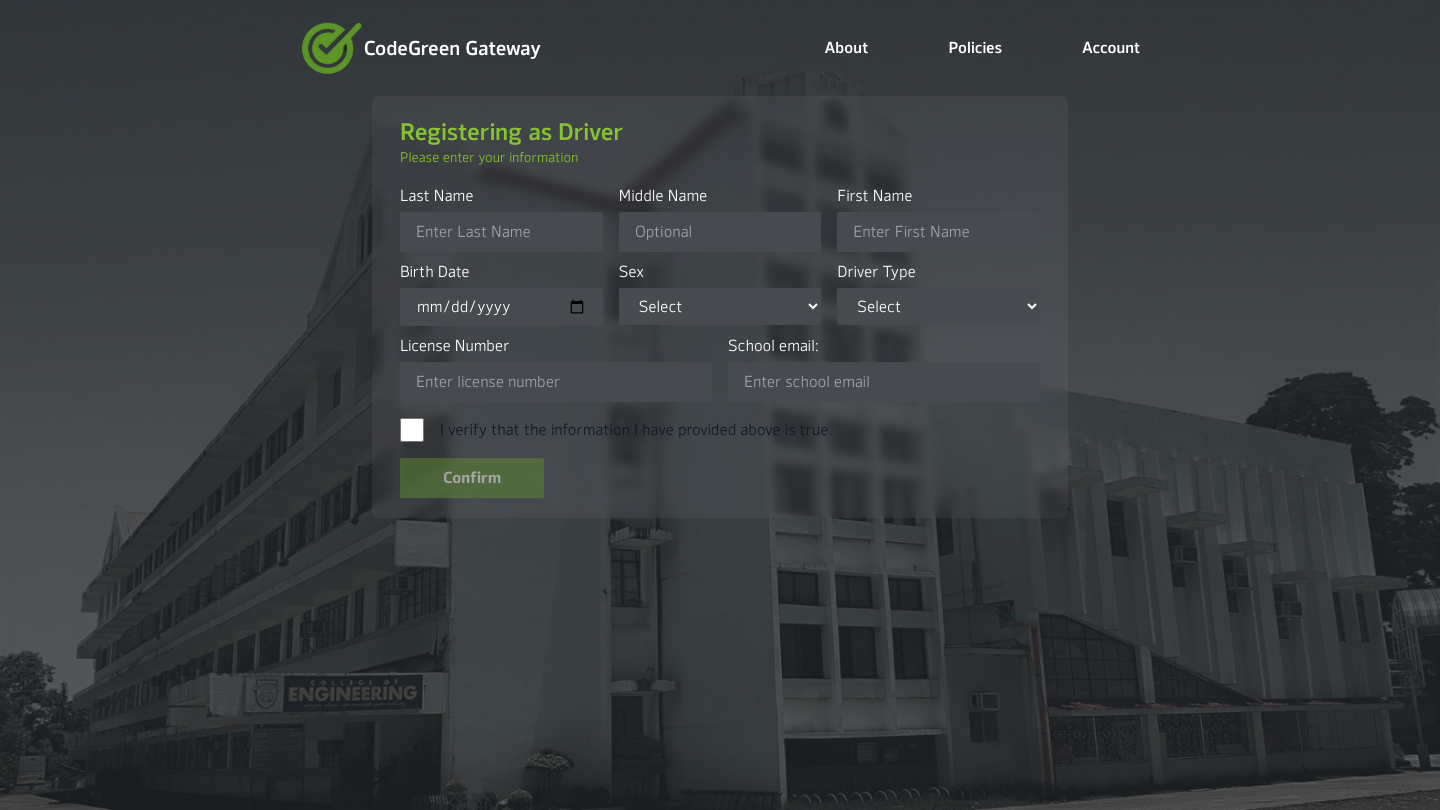
User should be able to register › should disable confirm button if checkbox is not checked
Expected: the button "Confirm" is disabled, [400,458,544,498]
Click the checkbox titled "tickbox". click: (412, 430)
box: [400,418,424,442]
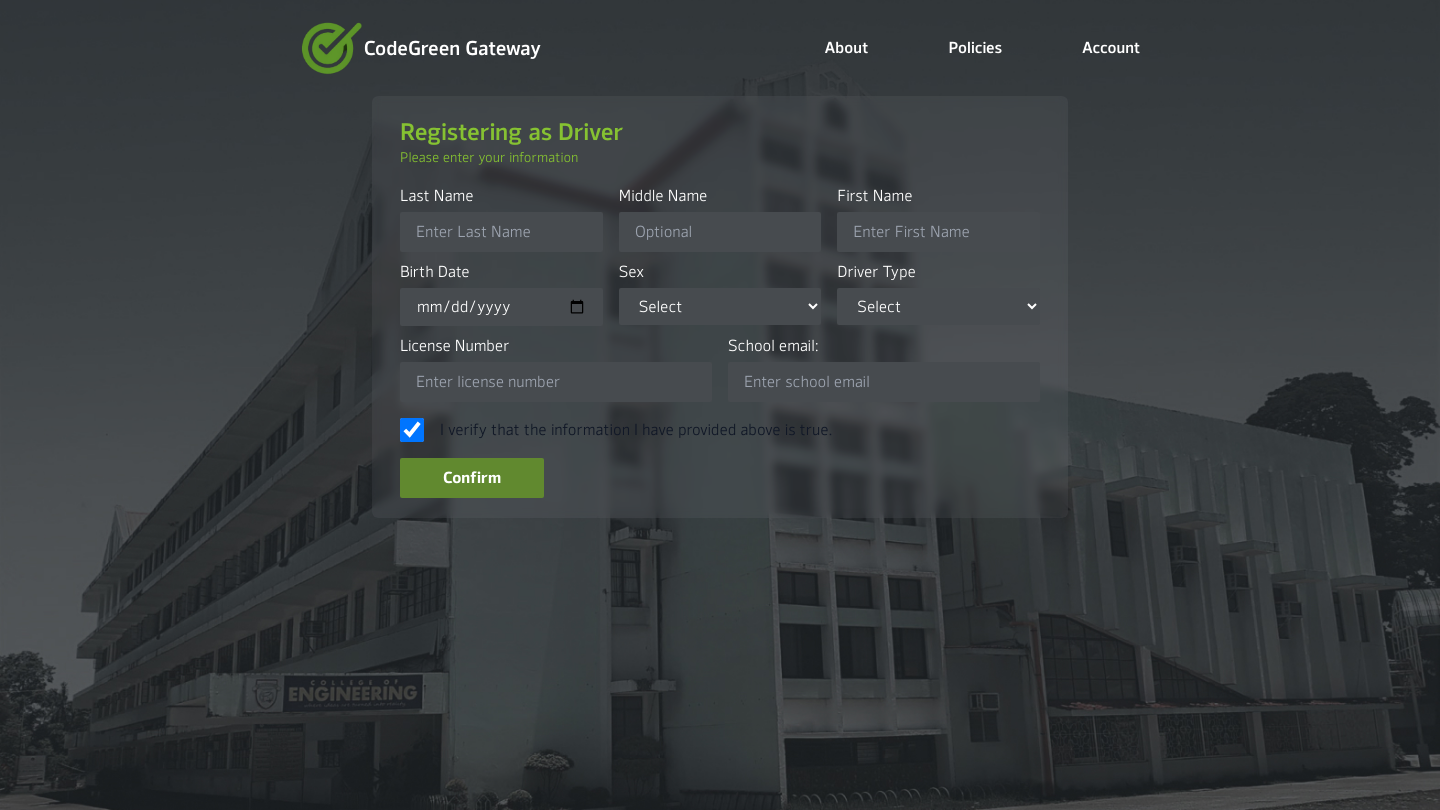
Expected: the button "Confirm" is enabled, [400,458,544,498]
